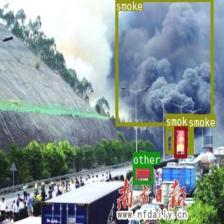fire: (174, 125, 186, 156)
smoke: (114, 0, 212, 125), (165, 126, 174, 153), (188, 127, 193, 154)
